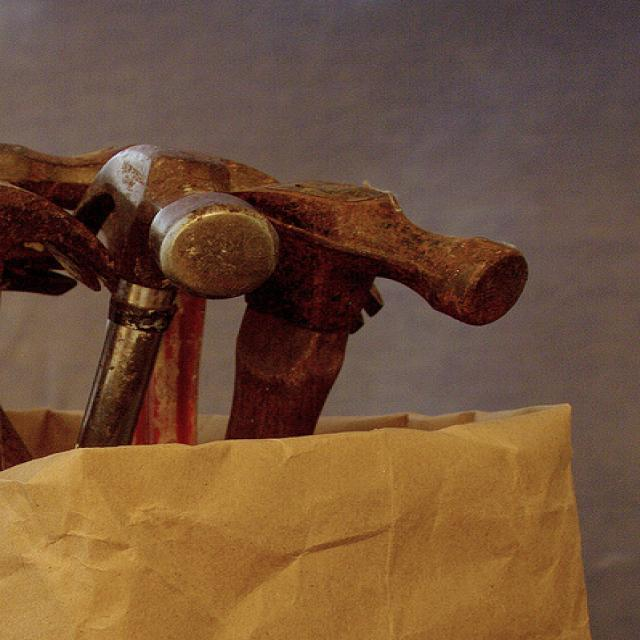hammer: (206, 167, 546, 465), (57, 130, 286, 478)
